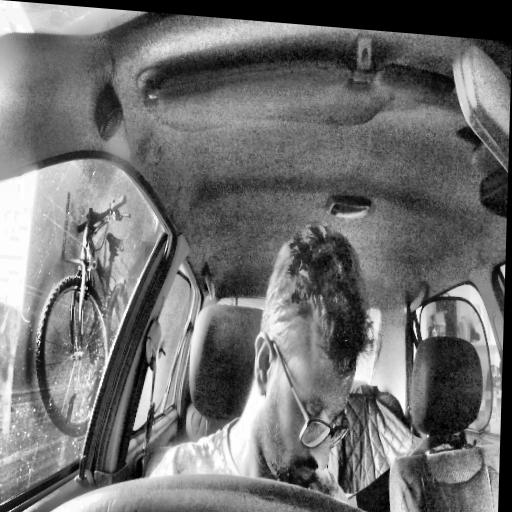drowsy: (247, 217, 383, 501)
